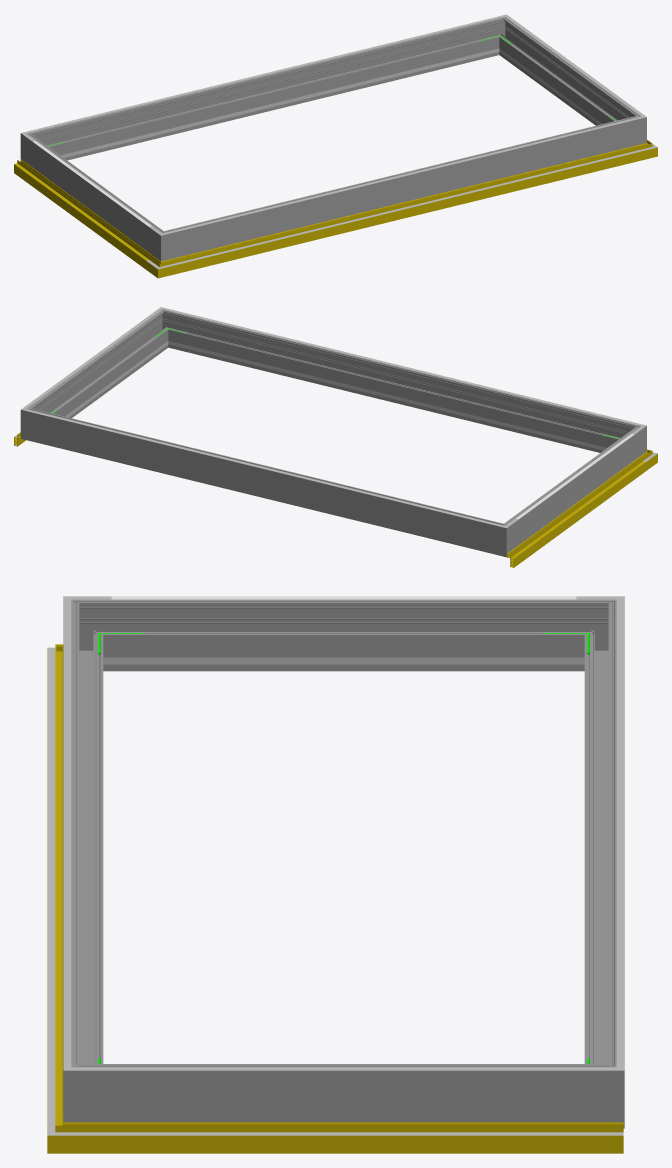
The picture shows the model from 3 angles, top to bottom: view 1: azimuth 30°, elevation 25°; view 2: azimuth 150°, elevation 25°; view 3: azimuth 270°, elevation 25°; orthographic projection. The views are drawn at different scales.
Parts seen in each view (by area): view 1: 3DGeom-276, 3DGeom-298, 3DGeom-90, 3DGeom-297, 3DGeom-268, 3DGeom-85, 3DGeom-244, 3DGeom-100, 3DGeom-304, 3DGeom-316, 3DGeom-270, 3DGeom-290 (+6 smaller); view 2: 3DGeom-298, 3DGeom-276, 3DGeom-297, 3DGeom-268, 3DGeom-85, 3DGeom-239, 3DGeom-304, 3DGeom-316, 3DGeom-278, 3DGeom-284, 3DGeom-290, 3DGeom-105 (+3 smaller); view 3: 3DGeom-268, 3DGeom-297, 3DGeom-97, 3DGeom-298, 3DGeom-276, 3DGeom-90, 3DGeom-100, 3DGeom-304, 3DGeom-316, 3DGeom-232, 3DGeom-284, 3DGeom-290 (+6 smaller).
Part boxes in pixels (box(x1,y1,x2,y2)): 3DGeom-276: box(43, 21, 495, 160); 3DGeom-298: box(178, 119, 626, 256); 3DGeom-90: box(175, 146, 637, 273); 3DGeom-297: box(501, 24, 631, 125); 3DGeom-268: box(32, 140, 155, 252); 3DGeom-85: box(14, 159, 152, 269); 3DGeom-244: box(68, 53, 479, 156); 3DGeom-100: box(177, 151, 636, 264); 3DGeom-304: box(42, 19, 487, 129); 3DGeom-316: box(180, 121, 625, 230); 3DGeom-270: box(149, 225, 181, 261); 3DGeom-290: box(622, 109, 646, 147); 3DGeom-298: box(172, 313, 624, 452); 3DGeom-276: box(41, 412, 489, 552); 3DGeom-297: box(36, 316, 166, 418); 3DGeom-268: box(512, 432, 634, 544); 3DGeom-85: box(504, 457, 645, 567); 3DGeom-239: box(188, 345, 599, 449); 3DGeom-304: box(42, 413, 487, 522); 3DGeom-316: box(180, 312, 625, 421); 3DGeom-278: box(486, 518, 518, 557); 3DGeom-284: box(20, 402, 44, 443); 3DGeom-290: box(152, 309, 179, 348); 3DGeom-105: box(510, 461, 645, 559); 3DGeom-268: box(111, 599, 576, 671); 3DGeom-297: box(111, 1064, 576, 1122); 3DGeom-97: box(95, 1122, 623, 1153); 3DGeom-298: box(63, 616, 103, 1063); 3DGeom-276: box(584, 616, 624, 1063); 3DGeom-90: box(47, 661, 63, 1115); 3DGeom-100: box(47, 668, 55, 1115); 3DGeom-304: box(616, 616, 624, 1050); 3DGeom-316: box(63, 616, 71, 1050); 3DGeom-232: box(150, 657, 537, 664); 3DGeom-284: box(576, 1050, 624, 1128); 3DGeom-290: box(63, 1050, 111, 1122).
Bounding box in the file's own units: 3.66 × 0.2667 × 1.83.
